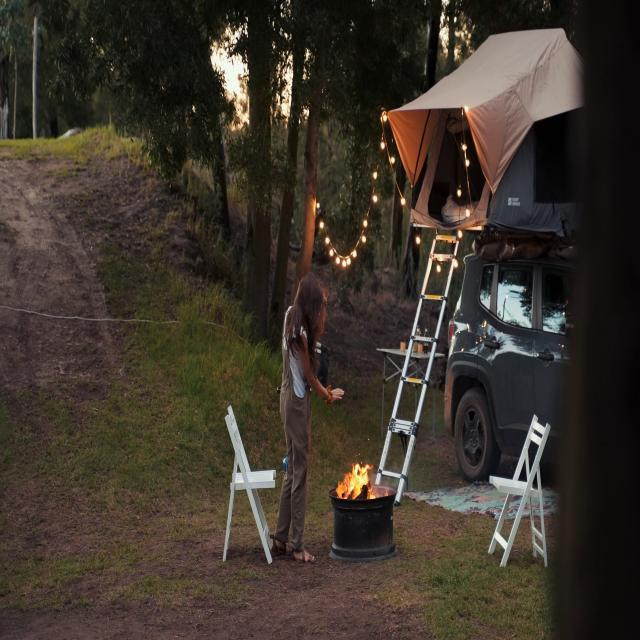Fire: (340, 450, 376, 502)
